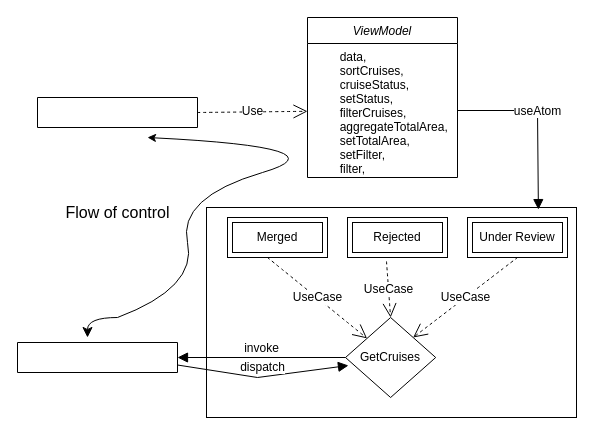
Some shapes in this 594 by 435 pixel diagram are drawn without their labels. The shapes that lost their labels are listed below. From the top down, each one's centre as x and y in pixels, then its label:
At (117,112): "CruiseTableView".
At (97,357): "CruiseDataSourceImpl".
